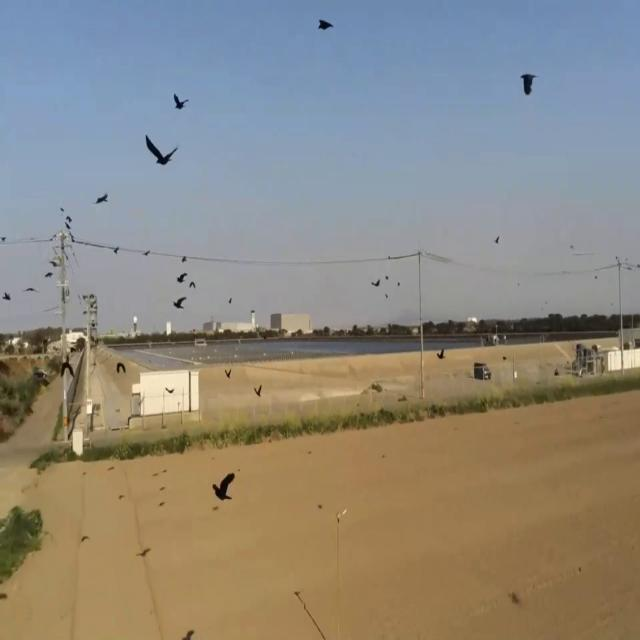bird: (146, 129, 179, 178), (210, 464, 237, 514), (521, 63, 535, 101), (173, 88, 189, 116), (175, 278, 191, 304), (318, 11, 333, 37), (173, 290, 187, 313), (177, 273, 192, 293), (95, 187, 108, 210), (24, 280, 37, 300), (116, 357, 126, 378), (45, 261, 54, 282), (2, 287, 11, 306), (371, 274, 380, 292), (255, 378, 262, 401), (187, 276, 196, 293), (225, 364, 232, 382), (143, 245, 151, 260), (113, 242, 119, 258), (439, 346, 444, 362), (495, 230, 499, 247), (397, 277, 401, 289)
